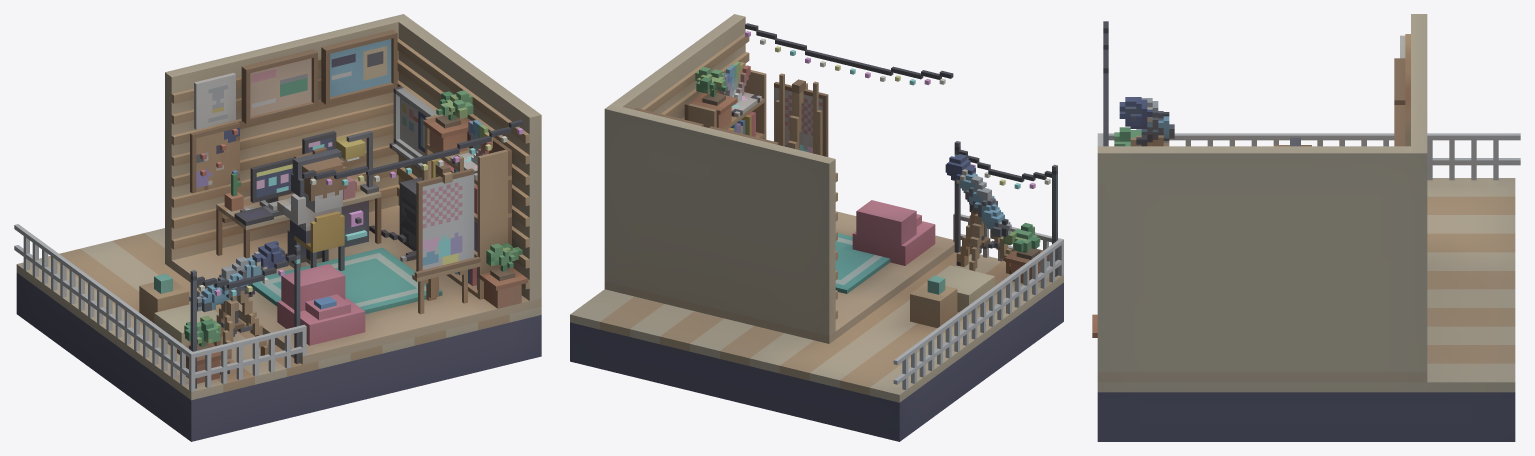
File: raum_atelier.glb
3 renders of one model, left to right at view 1: azimuth 30°, elevation 25°; view 2: azimuth 150°, elevation 25°; view 3: azimuth 270°, elevation 25°, orthographic. The views are drawn at different scales.
Visible parts, largest first — view 1: Atelier, Raum_Sockel, Atelier_Poster, Atelier_Regal, Atelier_Staffelei, Atelier_Sitzsack, Atelier_Teppich, Atelier_Florian, Atelier_Teleskop, Atelier_Pinnwand, Atelier_Laternen, Atelier_Whiteboard (+13 smaller); view 2: Atelier, Raum_Sockel, Atelier_Sitzsack, Atelier_Teleskop, Atelier_Staffelei, Atelier_Regal, Atelier_Lichterkette, Atelier_Laternen, Atelier_Tischchen, Atelier_Teppich, Atelier_Sitzkissen, Atelier_Pflanze_Veranda (+1 smaller); view 3: Atelier, Raum_Sockel, Atelier_Teleskop, Atelier_Poster, Atelier_Lichterkette.
Part boxes in pixels (x1,y1,x2,y2): Atelier: [14, 14, 541, 400]; Raum_Sockel: [16, 273, 541, 441]; Atelier_Poster: [194, 30, 397, 129]; Atelier_Regal: [423, 90, 511, 299]; Atelier_Staffelei: [412, 156, 480, 314]; Atelier_Sitzsack: [277, 264, 365, 345]; Atelier_Teppich: [248, 247, 442, 314]; Atelier_Florian: [277, 147, 346, 268]; Atelier_Teleskop: [189, 241, 285, 374]; Atelier_Pinnwand: [190, 122, 239, 193]; Atelier_Laternen: [190, 245, 300, 388]; Atelier_Whiteboard: [389, 86, 437, 170]; Atelier: [570, 14, 1063, 402]; Raum_Sockel: [570, 283, 1063, 441]; Atelier_Sitzsack: [852, 200, 935, 265]; Atelier_Teleskop: [945, 154, 1011, 274]; Atelier_Staffelei: [774, 73, 828, 156]; Atelier_Regal: [684, 67, 766, 139]; Atelier_Lichterkette: [745, 23, 953, 85]; Atelier_Laternen: [954, 141, 1057, 276]; Atelier_Tischchen: [910, 275, 957, 327]; Atelier_Teppich: [835, 233, 890, 293]; Atelier_Sitzkissen: [936, 265, 994, 314]; Atelier_Pflanze_Veranda: [1003, 223, 1049, 283]; Atelier: [1097, 14, 1520, 392]; Raum_Sockel: [1097, 392, 1515, 441]; Atelier_Teleskop: [1119, 97, 1174, 146]; Atelier_Poster: [1394, 35, 1405, 146]; Atelier_Lichterkette: [1103, 21, 1108, 146].
Size of the model in its own units: 5.5 by 3.62 by 4.87.
